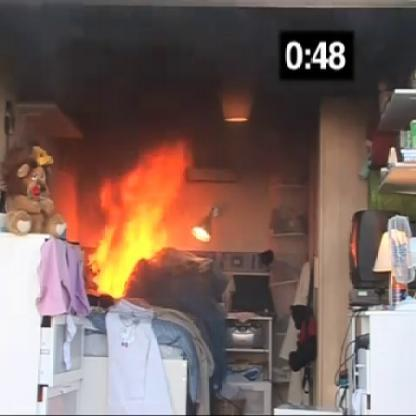fire: (90, 129, 178, 314)
smoke: (187, 211, 228, 257), (207, 95, 252, 123)
